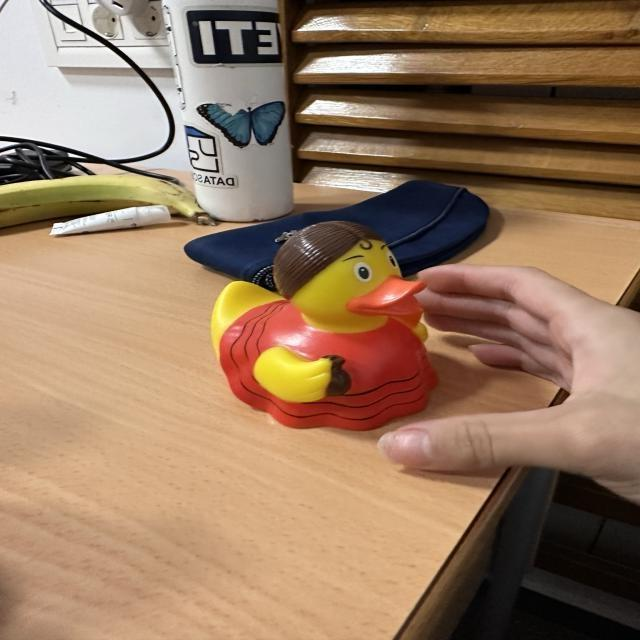rubber-duck: (210, 220, 435, 428)
